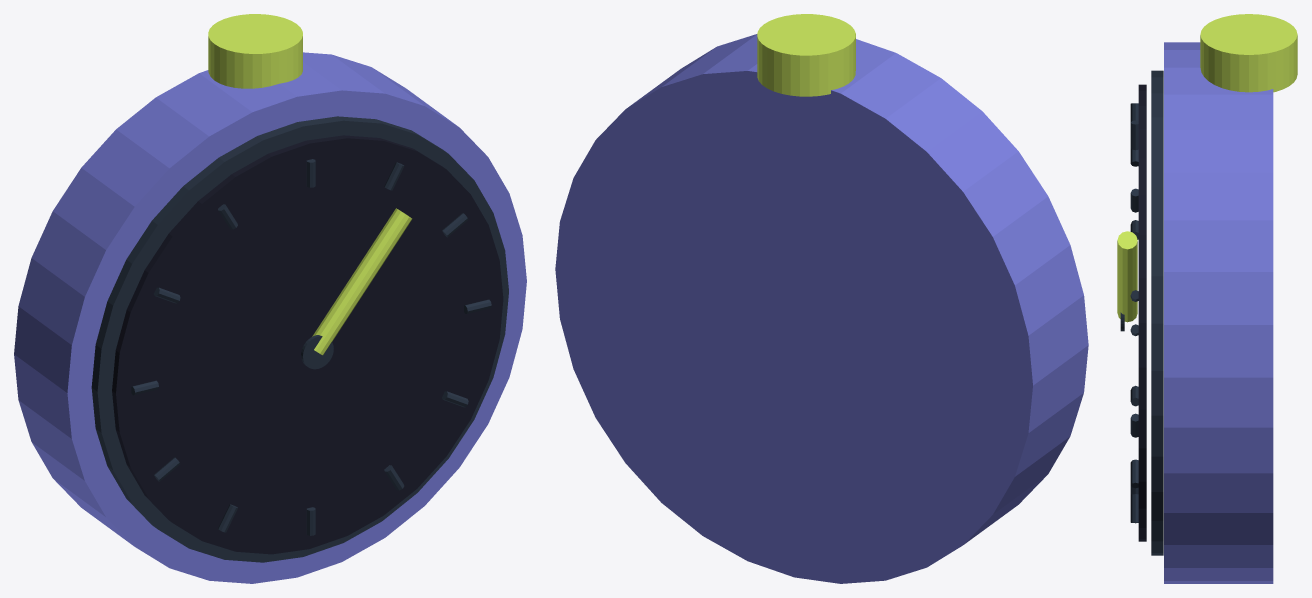
The model's file is timer.glb.
3 views of the same model, side by side, from view 1: azimuth 30°, elevation 25°; view 2: azimuth 150°, elevation 25°; view 3: azimuth 270°, elevation 25° (orthographic). The views are drawn at different scales.
Visible parts, largest first — view 1: dial, housing, bezel, knob, timer hand0, hub; view 2: housing, knob; view 3: housing, knob, bezel, dial, timer hand0, tick 0, tick 5, tick 4.
Part boxes in pixels (box(x1,y1,x2,y2)): dial: box(112, 135, 503, 554); housing: box(14, 52, 526, 583); bezel: box(91, 116, 508, 562); knob: box(208, 14, 302, 88); timer hand0: box(312, 208, 411, 355); hub: box(301, 335, 333, 369); housing: box(555, 34, 1088, 583); knob: box(757, 14, 855, 96); housing: box(1164, 42, 1273, 583); knob: box(1200, 14, 1297, 92); bezel: box(1151, 70, 1163, 555); dial: box(1138, 84, 1146, 541); timer hand0: box(1117, 231, 1137, 322); tick 0: box(1130, 120, 1138, 150); tick 5: box(1130, 494, 1138, 523); tick 4: box(1130, 459, 1138, 488).
Size of the model in its own units: 1.34 by 1.43 by 0.445.
